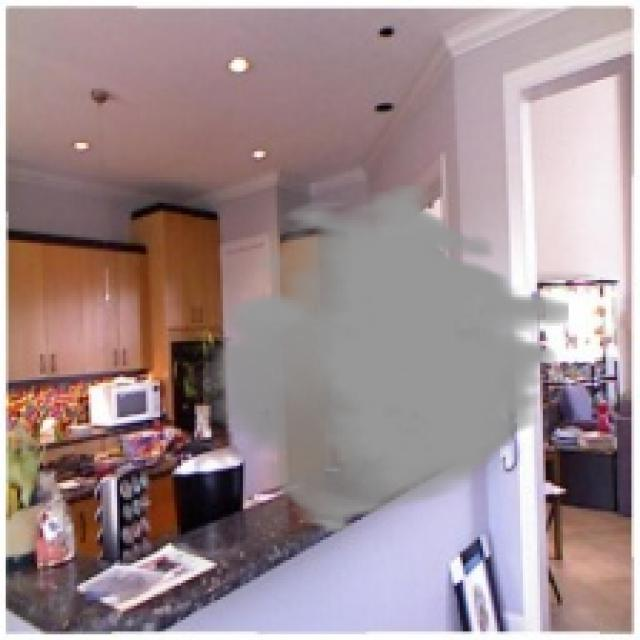Smoke: (202, 182, 568, 534)
